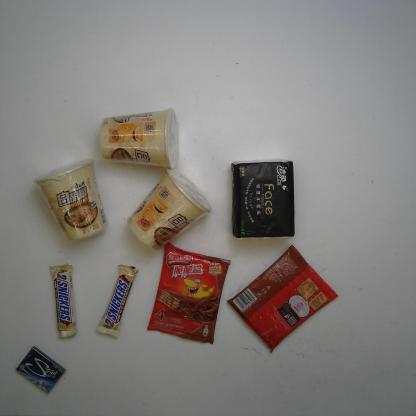Chocolate: (94, 264, 139, 336), (50, 262, 80, 338)
Dessert: (226, 244, 340, 353), (147, 240, 231, 343)
Gum: (15, 346, 66, 393)
Instant Noodles: (127, 167, 210, 251), (33, 159, 108, 240), (98, 109, 178, 168)
Tissue: (228, 158, 297, 240)
